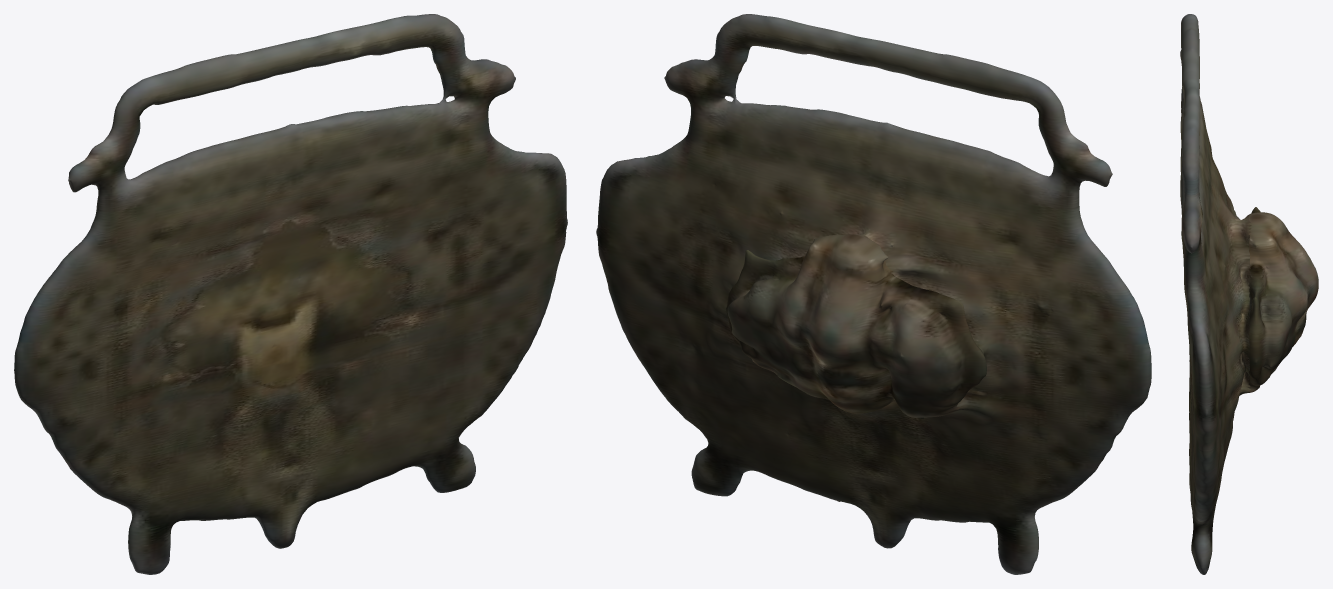
File: kfl-2306.glb
3 views of the same model, side by side, from view 1: azimuth 30°, elevation 25°; view 2: azimuth 150°, elevation 25°; view 3: azimuth 270°, elevation 25° (orthographic). The views are drawn at different scales.
Visible parts, largest first — view 1: geometry_0; view 2: geometry_0; view 3: geometry_0.
Part boxes in pixels (x1,y1,x2,y2): geometry_0: (14,14,567,574); geometry_0: (596,14,1151,574); geometry_0: (1180,14,1318,574).
Size of the model in its own units: 0.9936 by 0.8694 by 0.2497.
Materials: 1 (1 with a texture image).
